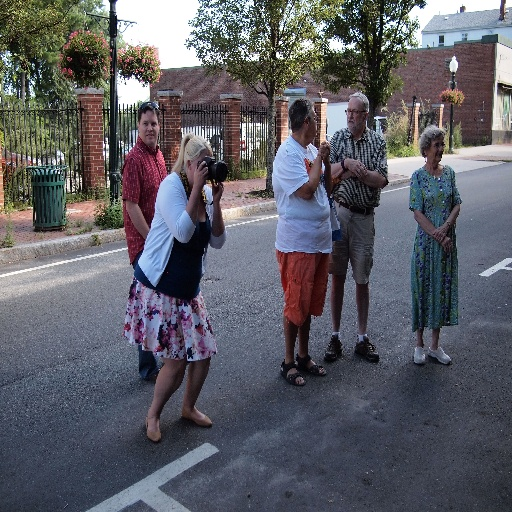hand: (347, 158, 368, 178), (190, 162, 207, 183), (209, 178, 223, 202), (432, 224, 446, 243), (441, 236, 453, 252), (320, 140, 329, 157), (320, 142, 328, 161), (341, 168, 354, 179)
